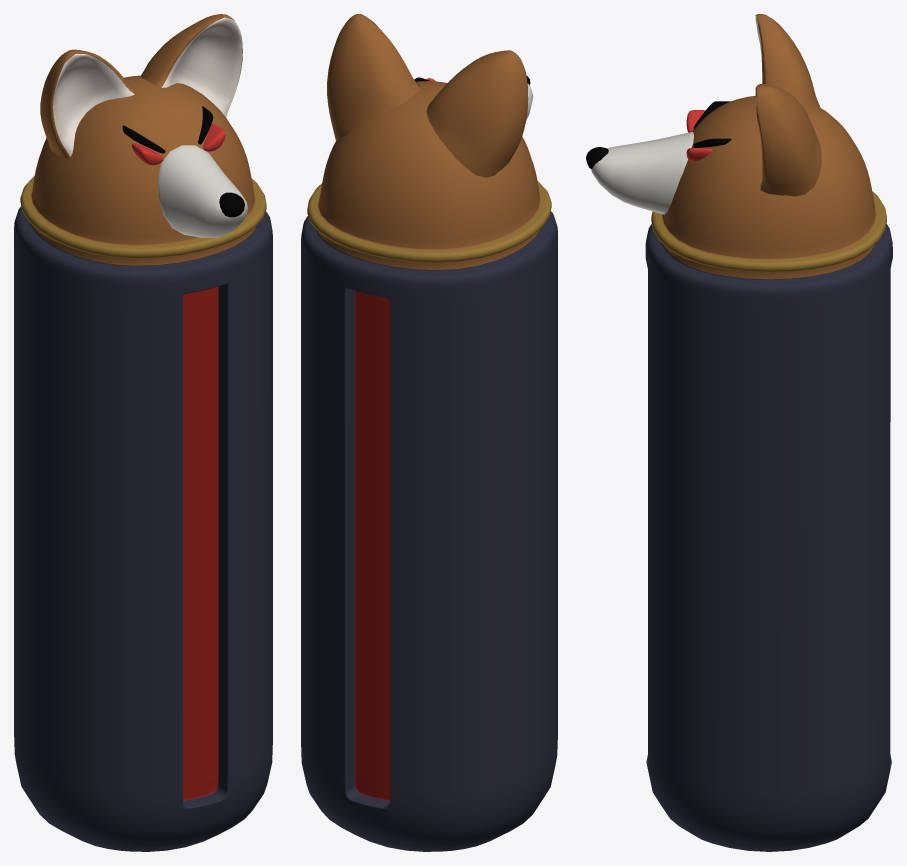
File: SM_Bouncer_02.fbx
The picture shows the model from 3 angles, left to right: view 1: azimuth 30°, elevation 25°; view 2: azimuth 150°, elevation 25°; view 3: azimuth 270°, elevation 25°; orthographic projection. The views are drawn at different scales.
Visible parts, largest first — view 1: SM_Bouncer_02; view 2: SM_Bouncer_02; view 3: SM_Bouncer_02.
Part boxes in pixels (left/top/right/bottom): SM_Bouncer_02: left=14, top=14, right=272, bottom=851; SM_Bouncer_02: left=301, top=14, right=557, bottom=851; SM_Bouncer_02: left=586, top=14, right=892, bottom=851.
Bounding box in the file's own units: 88.78 × 308 × 110.
